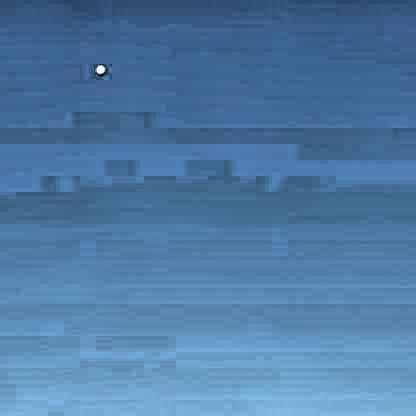golfball: (92, 60, 106, 74)
